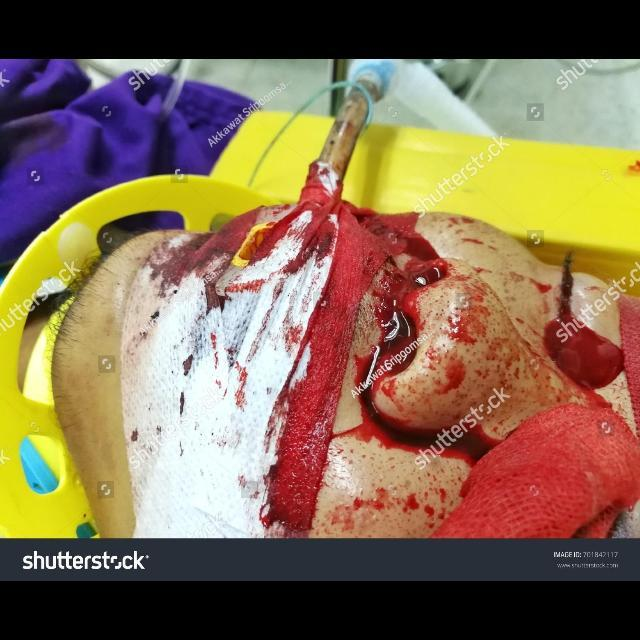blood: (144, 161, 633, 538), (373, 258, 587, 442), (434, 404, 640, 539), (544, 255, 640, 438), (531, 279, 553, 293)
